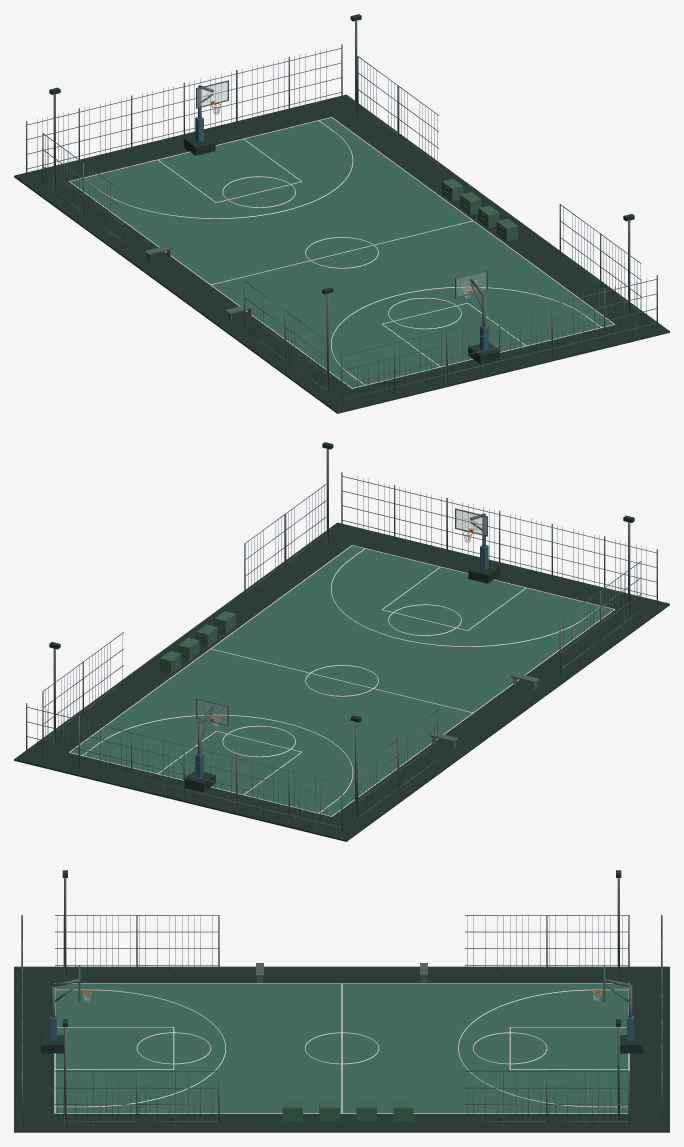
File: basketball-outdoor-2.glb
3 views of the same model, one above another, from view 1: azimuth 30°, elevation 25°; view 2: azimuth 150°, elevation 25°; view 3: azimuth 270°, elevation 25° (orthographic).
Visible parts, largest first — view 1: basketball-outdoor-2__architecture_and_equipment; view 2: basketball-outdoor-2__architecture_and_equipment; view 3: basketball-outdoor-2__architecture_and_equipment.
Part boxes in pixels (x1,y1,x2,y2): basketball-outdoor-2__architecture_and_equipment: (14,14,669,413); basketball-outdoor-2__architecture_and_equipment: (14,442,669,841); basketball-outdoor-2__architecture_and_equipment: (14,870,669,1132).
Bounding box in the file's own units: 19 × 5.59 × 32.
